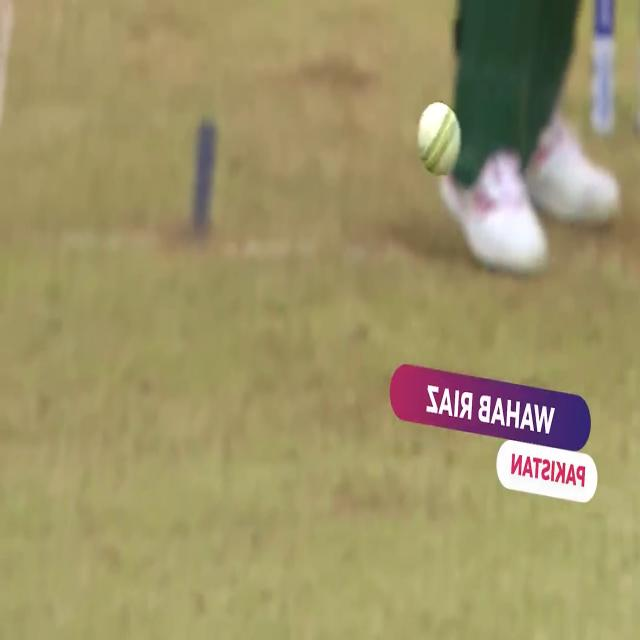ball: (413, 97, 462, 178)
